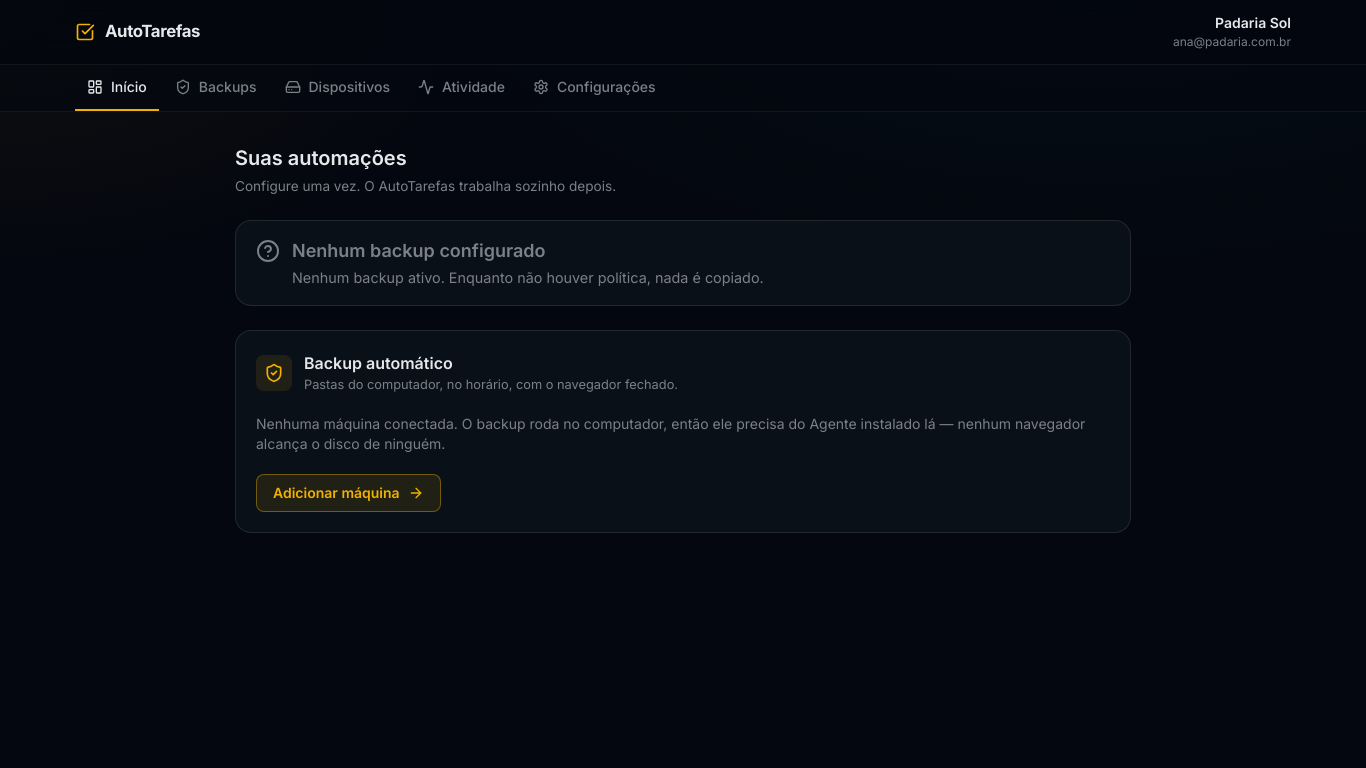
it: navegação › Sair mora em Configurações, e não no topo de todas as telas
This screenshot has width=1366, height=768.
Check: the navigation bar named "Seções" is shown, box [0, 65, 1365, 112]
Check: the button "Sair" is not shown
Click the link "Configurações". click: (594, 86)
box: [533, 78, 656, 95]
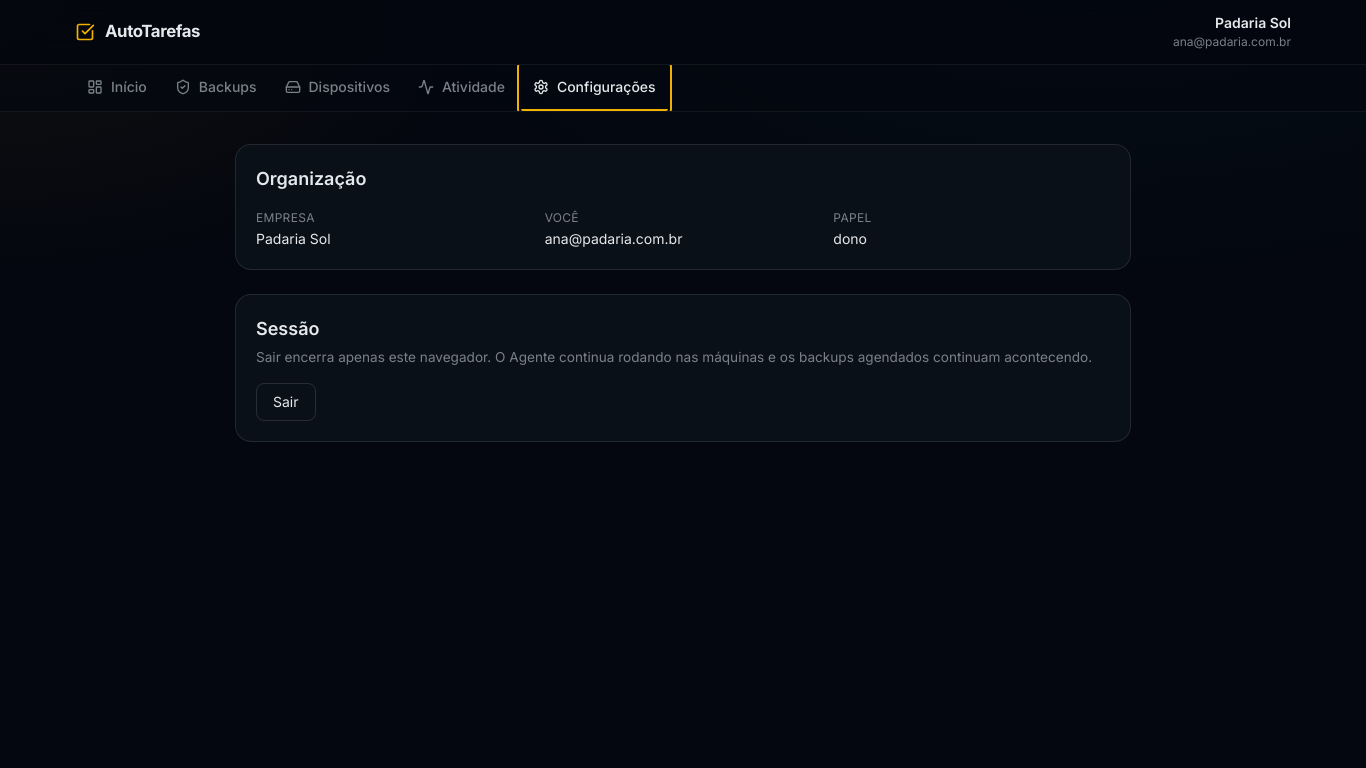
Check: the button "Sair" is shown, box [256, 383, 316, 421]
